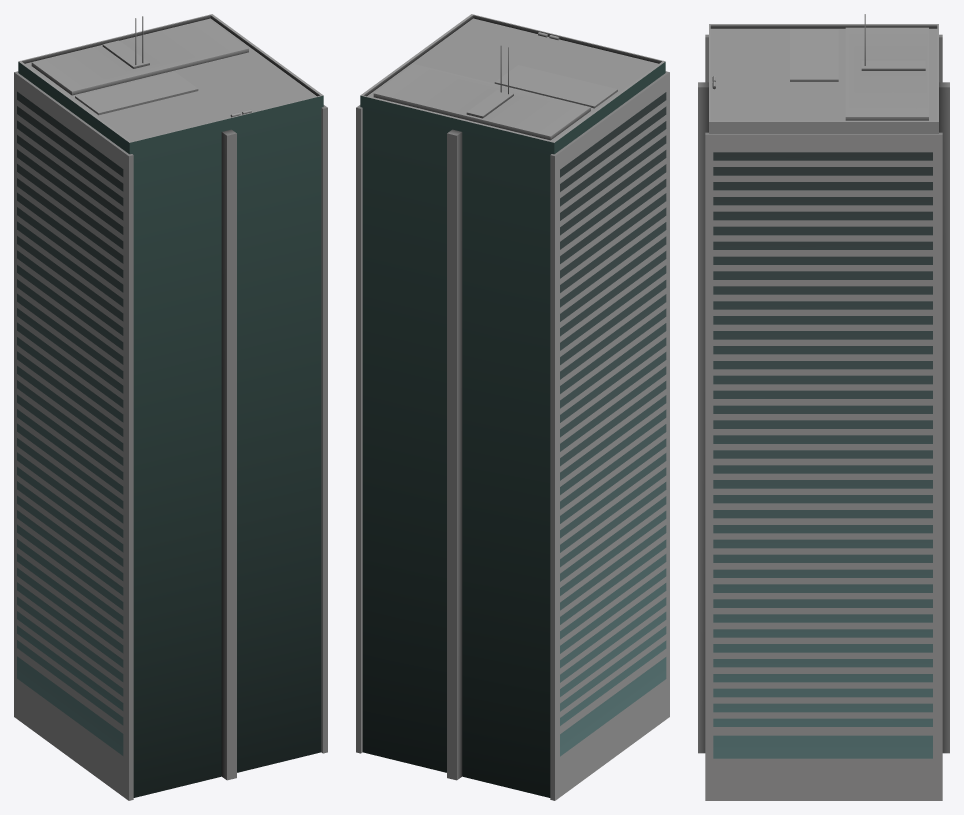
File: Industrial_TraditionalSkyscraper_alt07.glb
The picture shows the model from 3 angles, left to right: view 1: azimuth 30°, elevation 25°; view 2: azimuth 150°, elevation 25°; view 3: azimuth 270°, elevation 25°; orthographic projection. The views are drawn at different scales.
Visible parts, largest first — view 1: base.052, windowRefl.035; view 2: base.052, windowRefl.035; view 3: base.052, windowRefl.035.
Part boxes in pixels (x1,y1,x2,y2): base.052: (14, 14, 327, 800); windowRefl.035: (17, 91, 123, 755); base.052: (356, 14, 669, 800); windowRefl.035: (560, 92, 666, 756); base.052: (698, 14, 949, 800); windowRefl.035: (713, 152, 932, 758).
Bounding box in the file's own units: 21.21 × 71.2 × 22.29.
